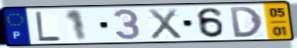1: (64, 8, 90, 43)
3: (111, 8, 142, 42)
6: (195, 7, 226, 39)
D: (228, 5, 265, 39)
L: (34, 11, 63, 43)
X: (146, 8, 184, 41)
